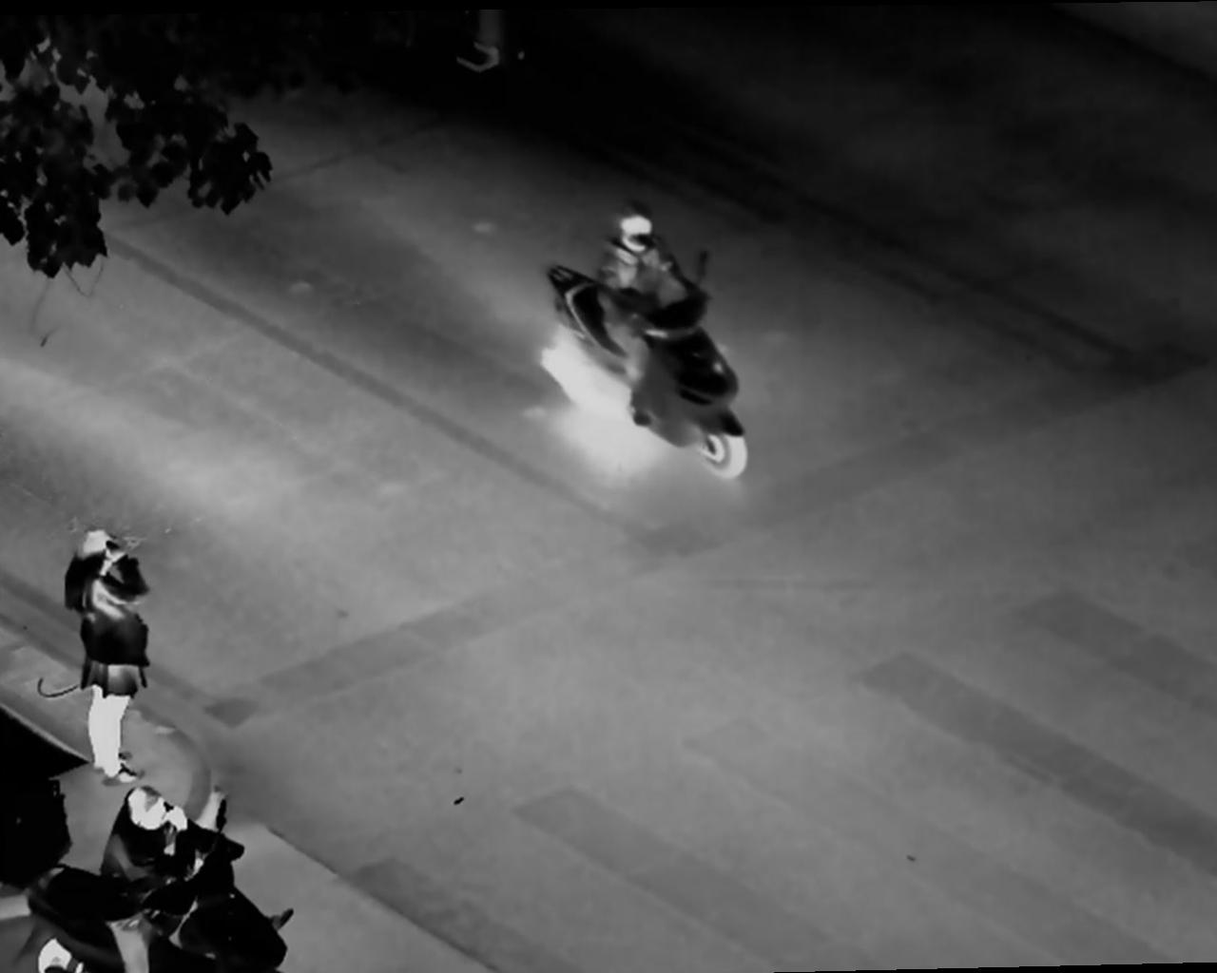person: (65, 526, 165, 781), (88, 781, 208, 973), (598, 195, 691, 427)
